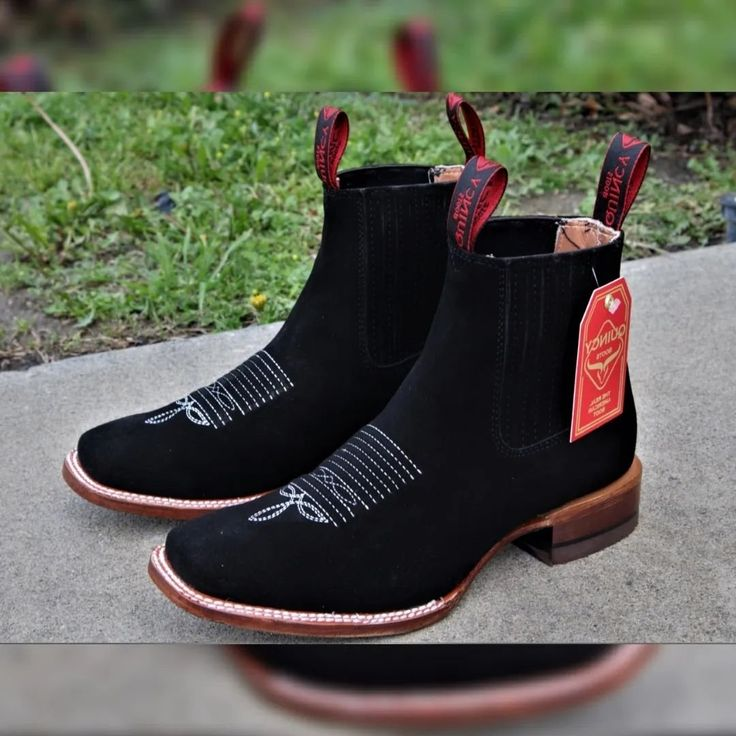gamuza: (79, 164, 638, 614)
